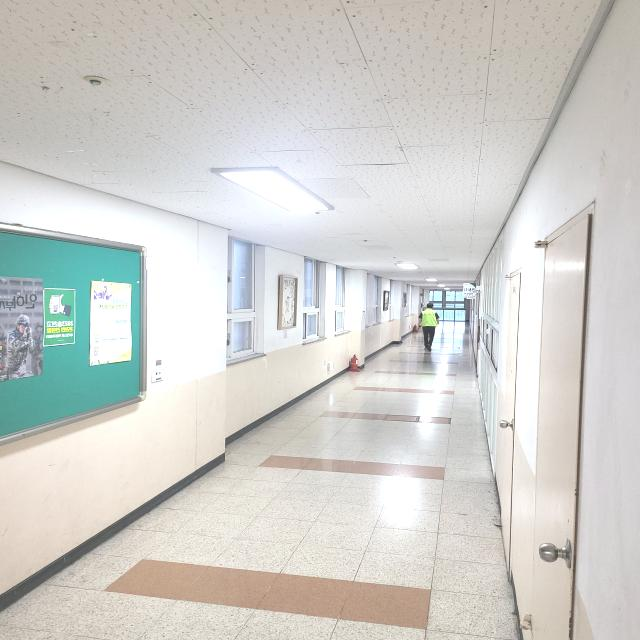weston_spy: (419, 309, 438, 329)
